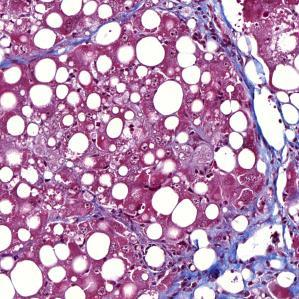fibrosis: (213, 210, 299, 279), (184, 0, 230, 36)
